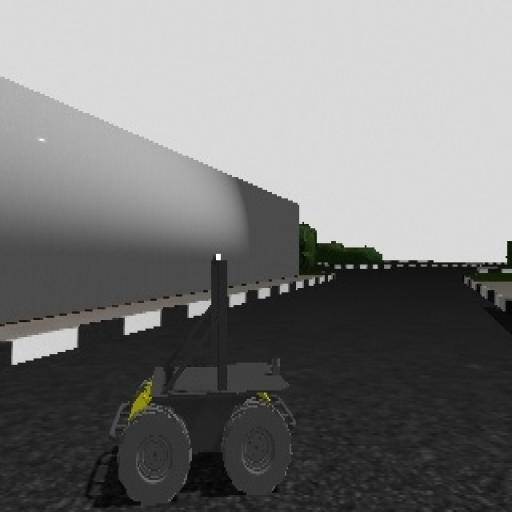huskya200: (78, 243, 352, 512)
